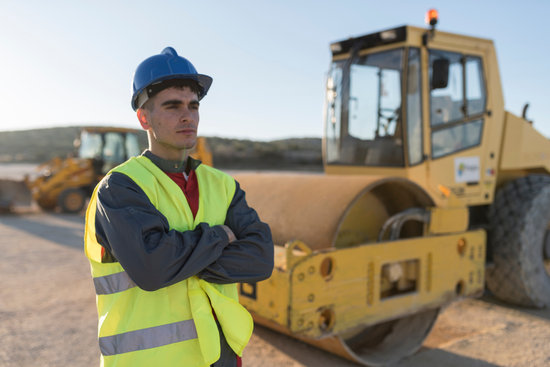hard hat: (131, 46, 213, 111)
high-vis: (83, 155, 255, 364)
